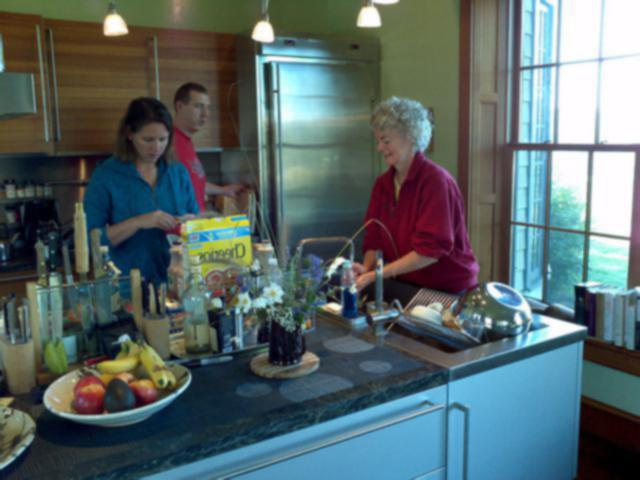Lavaplatos: (290, 234, 589, 358)
